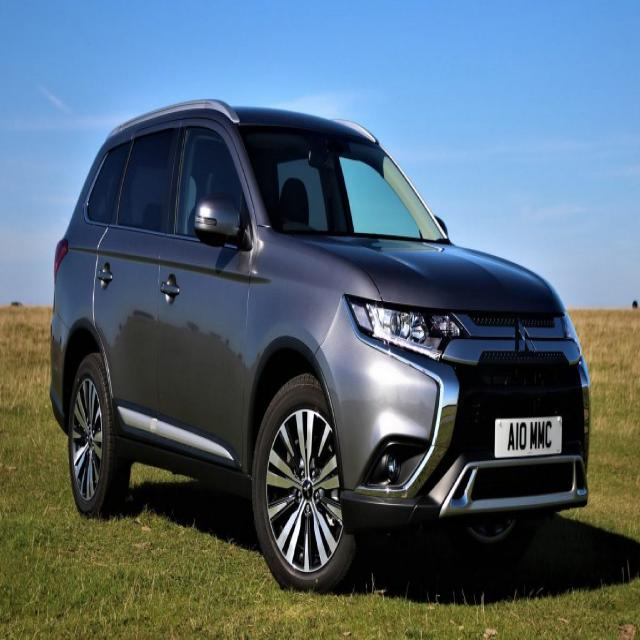light_vehicle: (49, 100, 592, 593)
